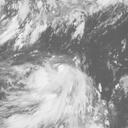cyclone: (32, 61, 93, 114)
